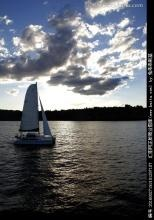fanchuan: (8, 82, 59, 145)
